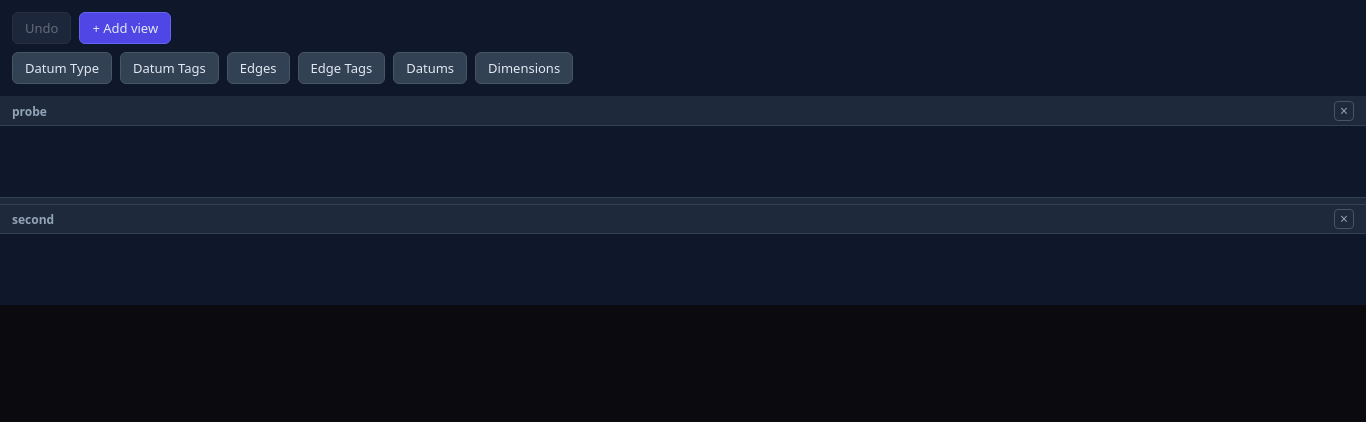
it: GraphSect action pipeline › Resize: dragging a stack handle records one VIEW_ACTION and undo reverts it
Press the mouse on the element titled "Drag to resize" at (683, 201), box [0, 197, 1365, 205]
Wait 400 ms
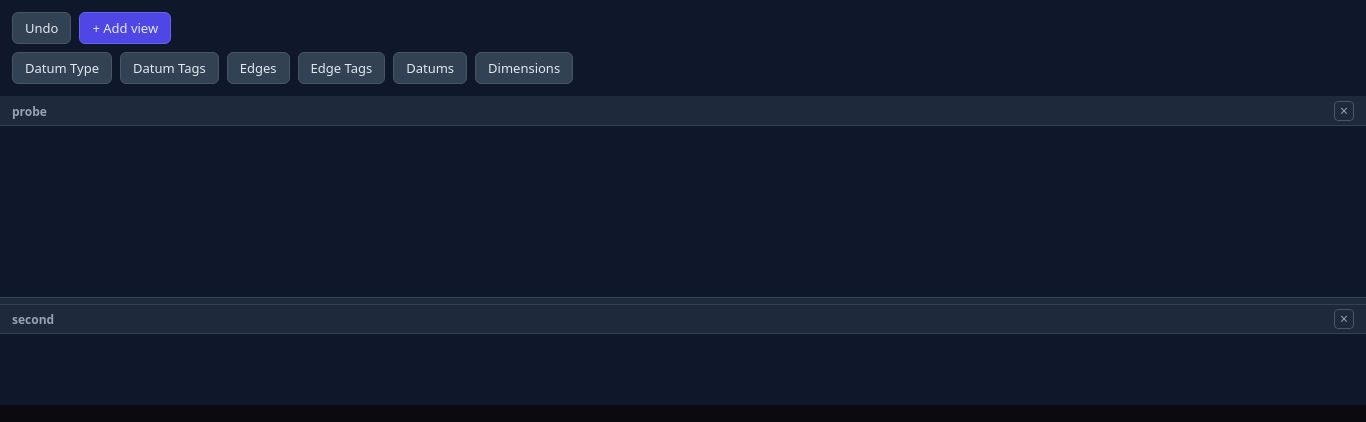
Click the button with test id "undo-button".
click(42, 28)  # box [12, 12, 71, 44]
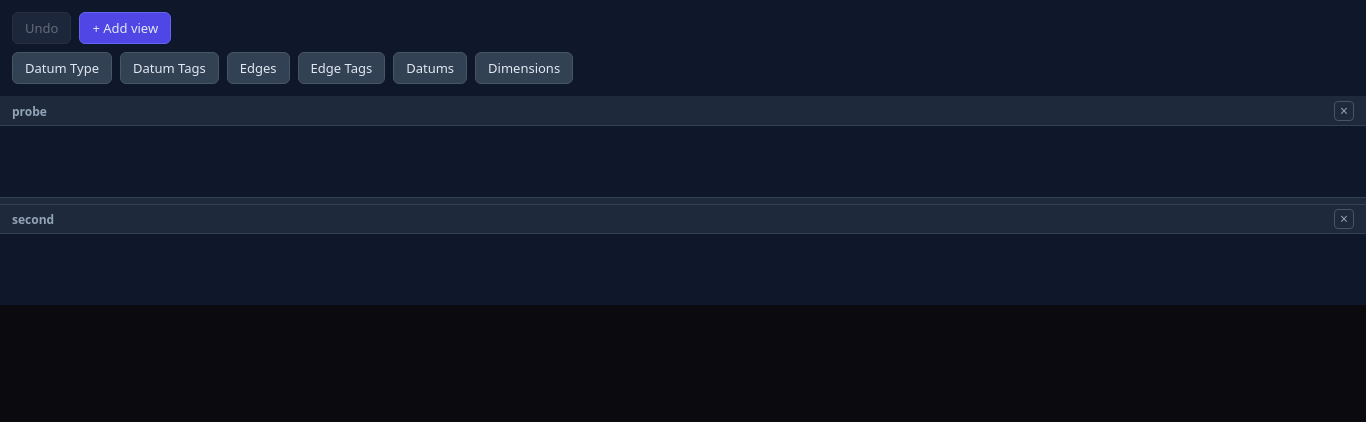
Result: the button with test id "undo-button" is disabled at [12, 12, 71, 44]
